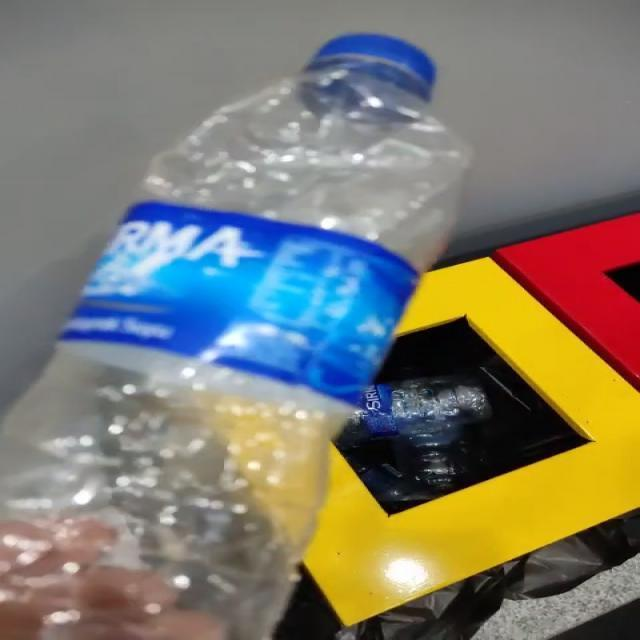Plastic: (3, 34, 472, 640)
